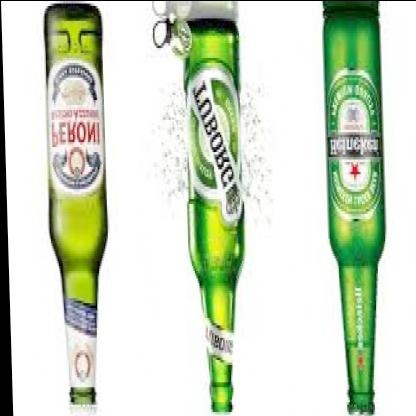trash: (153, 2, 243, 412), (324, 2, 384, 412), (45, 4, 106, 405)
